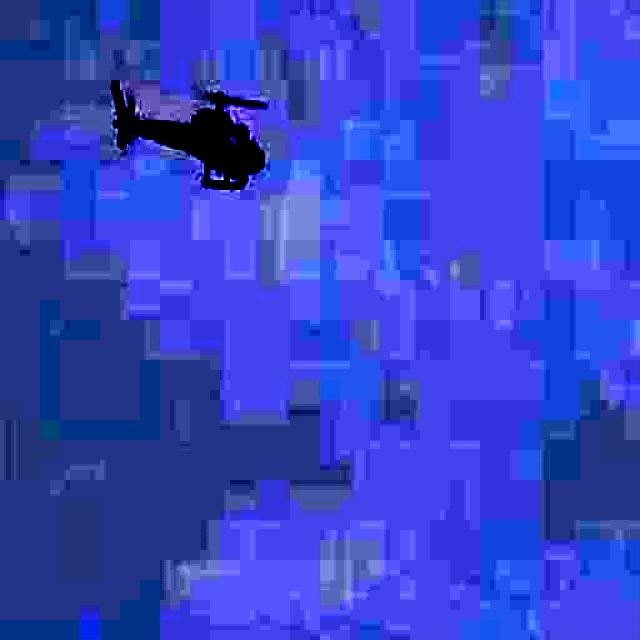drone: (94, 50, 270, 218)
